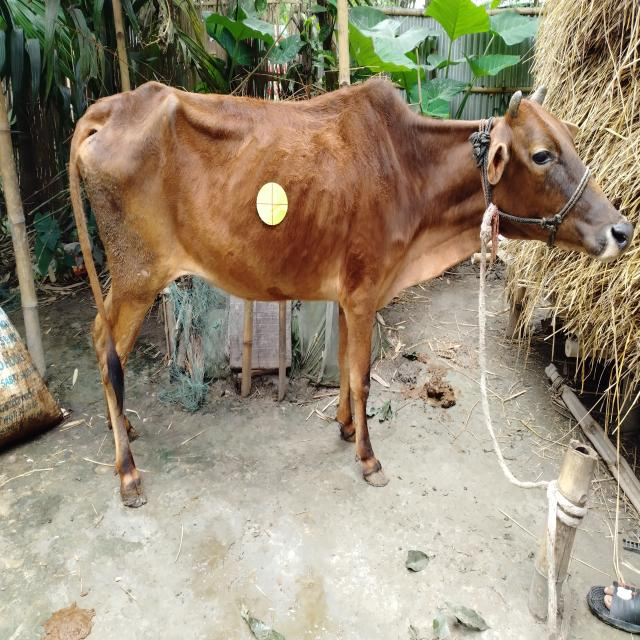badan_sapi: (77, 92, 410, 306)
sapi: (60, 52, 632, 513)
